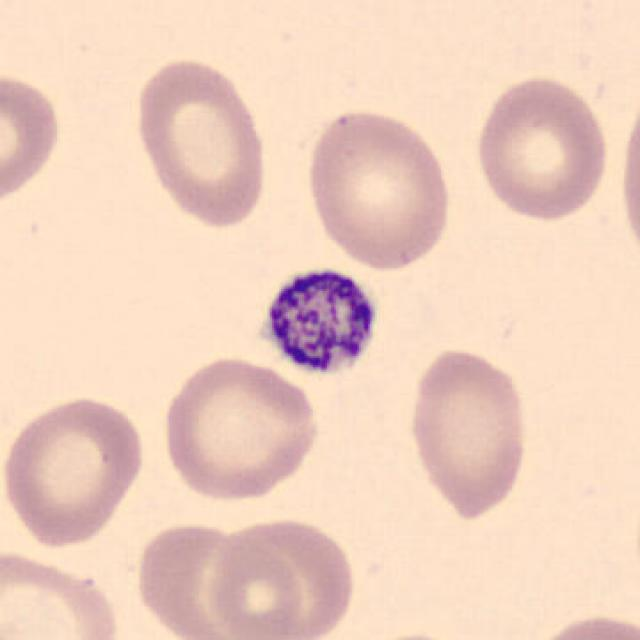Platelets: (247, 260, 384, 384)
RBC: (301, 104, 455, 273), (128, 53, 272, 231), (154, 353, 323, 504), (404, 342, 534, 524), (0, 391, 149, 549), (469, 70, 614, 224), (129, 516, 284, 640), (204, 525, 359, 640), (0, 545, 124, 640), (0, 67, 66, 212), (615, 80, 640, 266), (523, 608, 638, 640), (343, 627, 492, 640)
